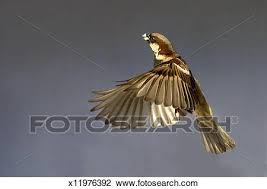hsparrow: (88, 30, 240, 157)
